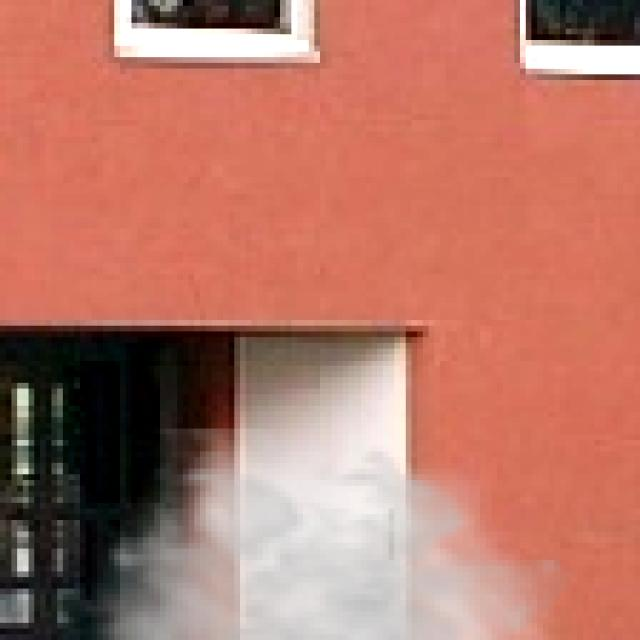smoke: (74, 428, 582, 640)
